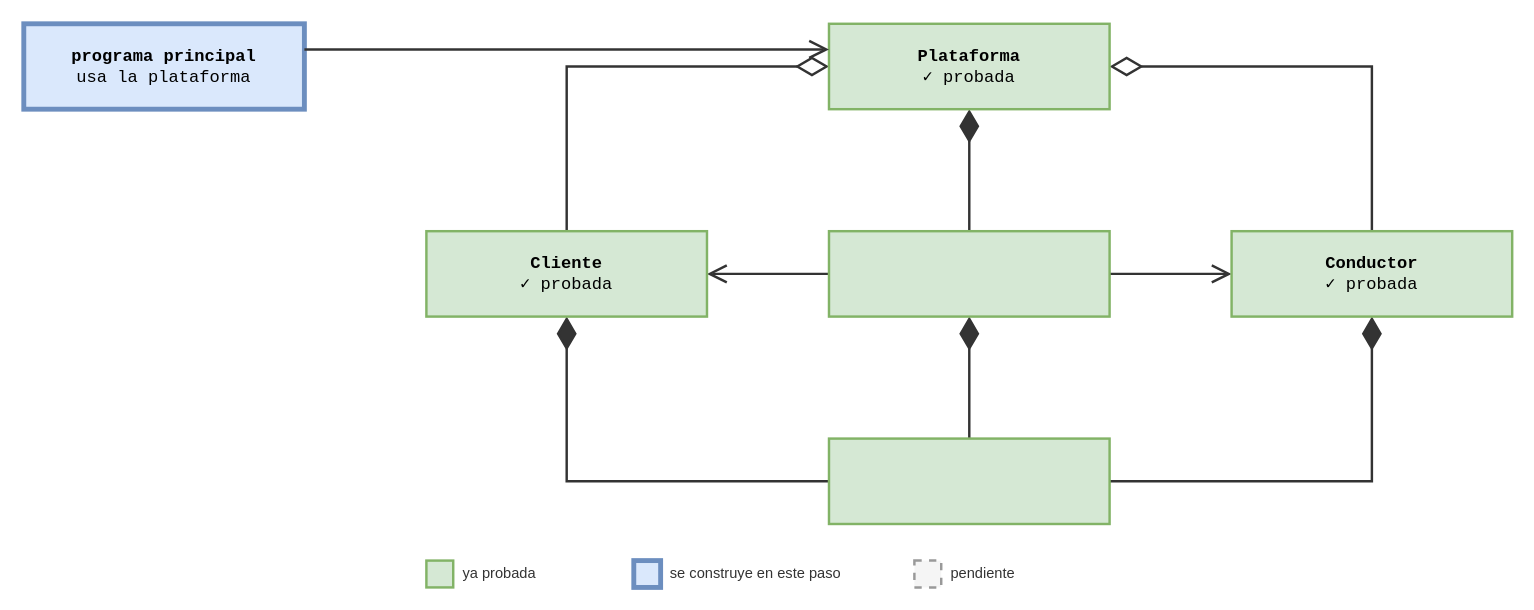
This 1534x610 diagram has some shape labels left out. The box of each missing label's shape, as (x1, y1, x2, y2) in pixels:
Punto ✓ probada: (827, 437, 1110, 525)
Viaje ✓ probada: (827, 229, 1110, 317)
